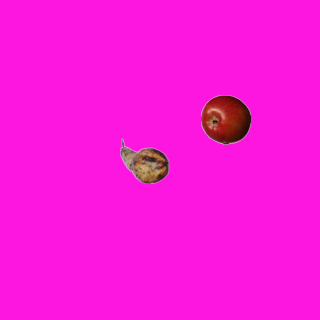Apple Braeburn: (200, 94, 250, 144)
Pear Abate: (119, 136, 169, 186)
